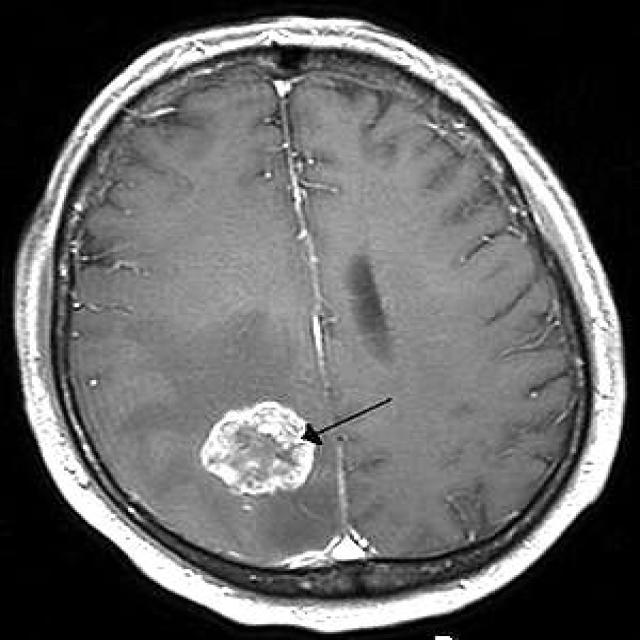Tumor-Cell: (193, 396, 330, 506)
